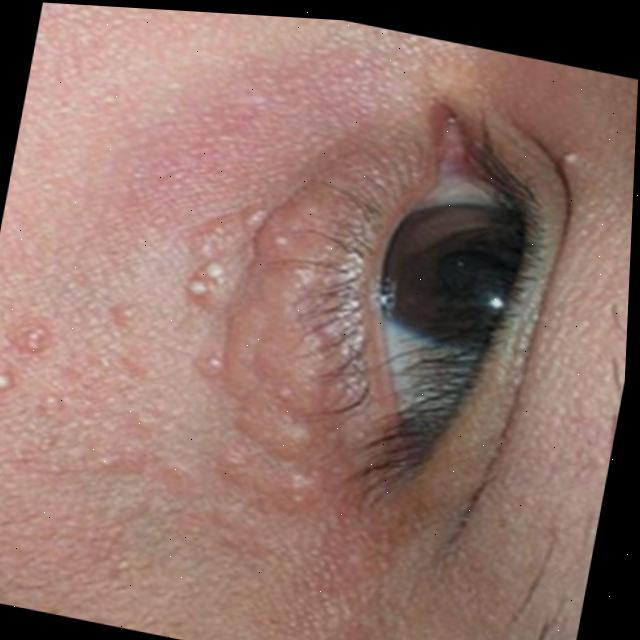Acne: (0, 102, 348, 478)
